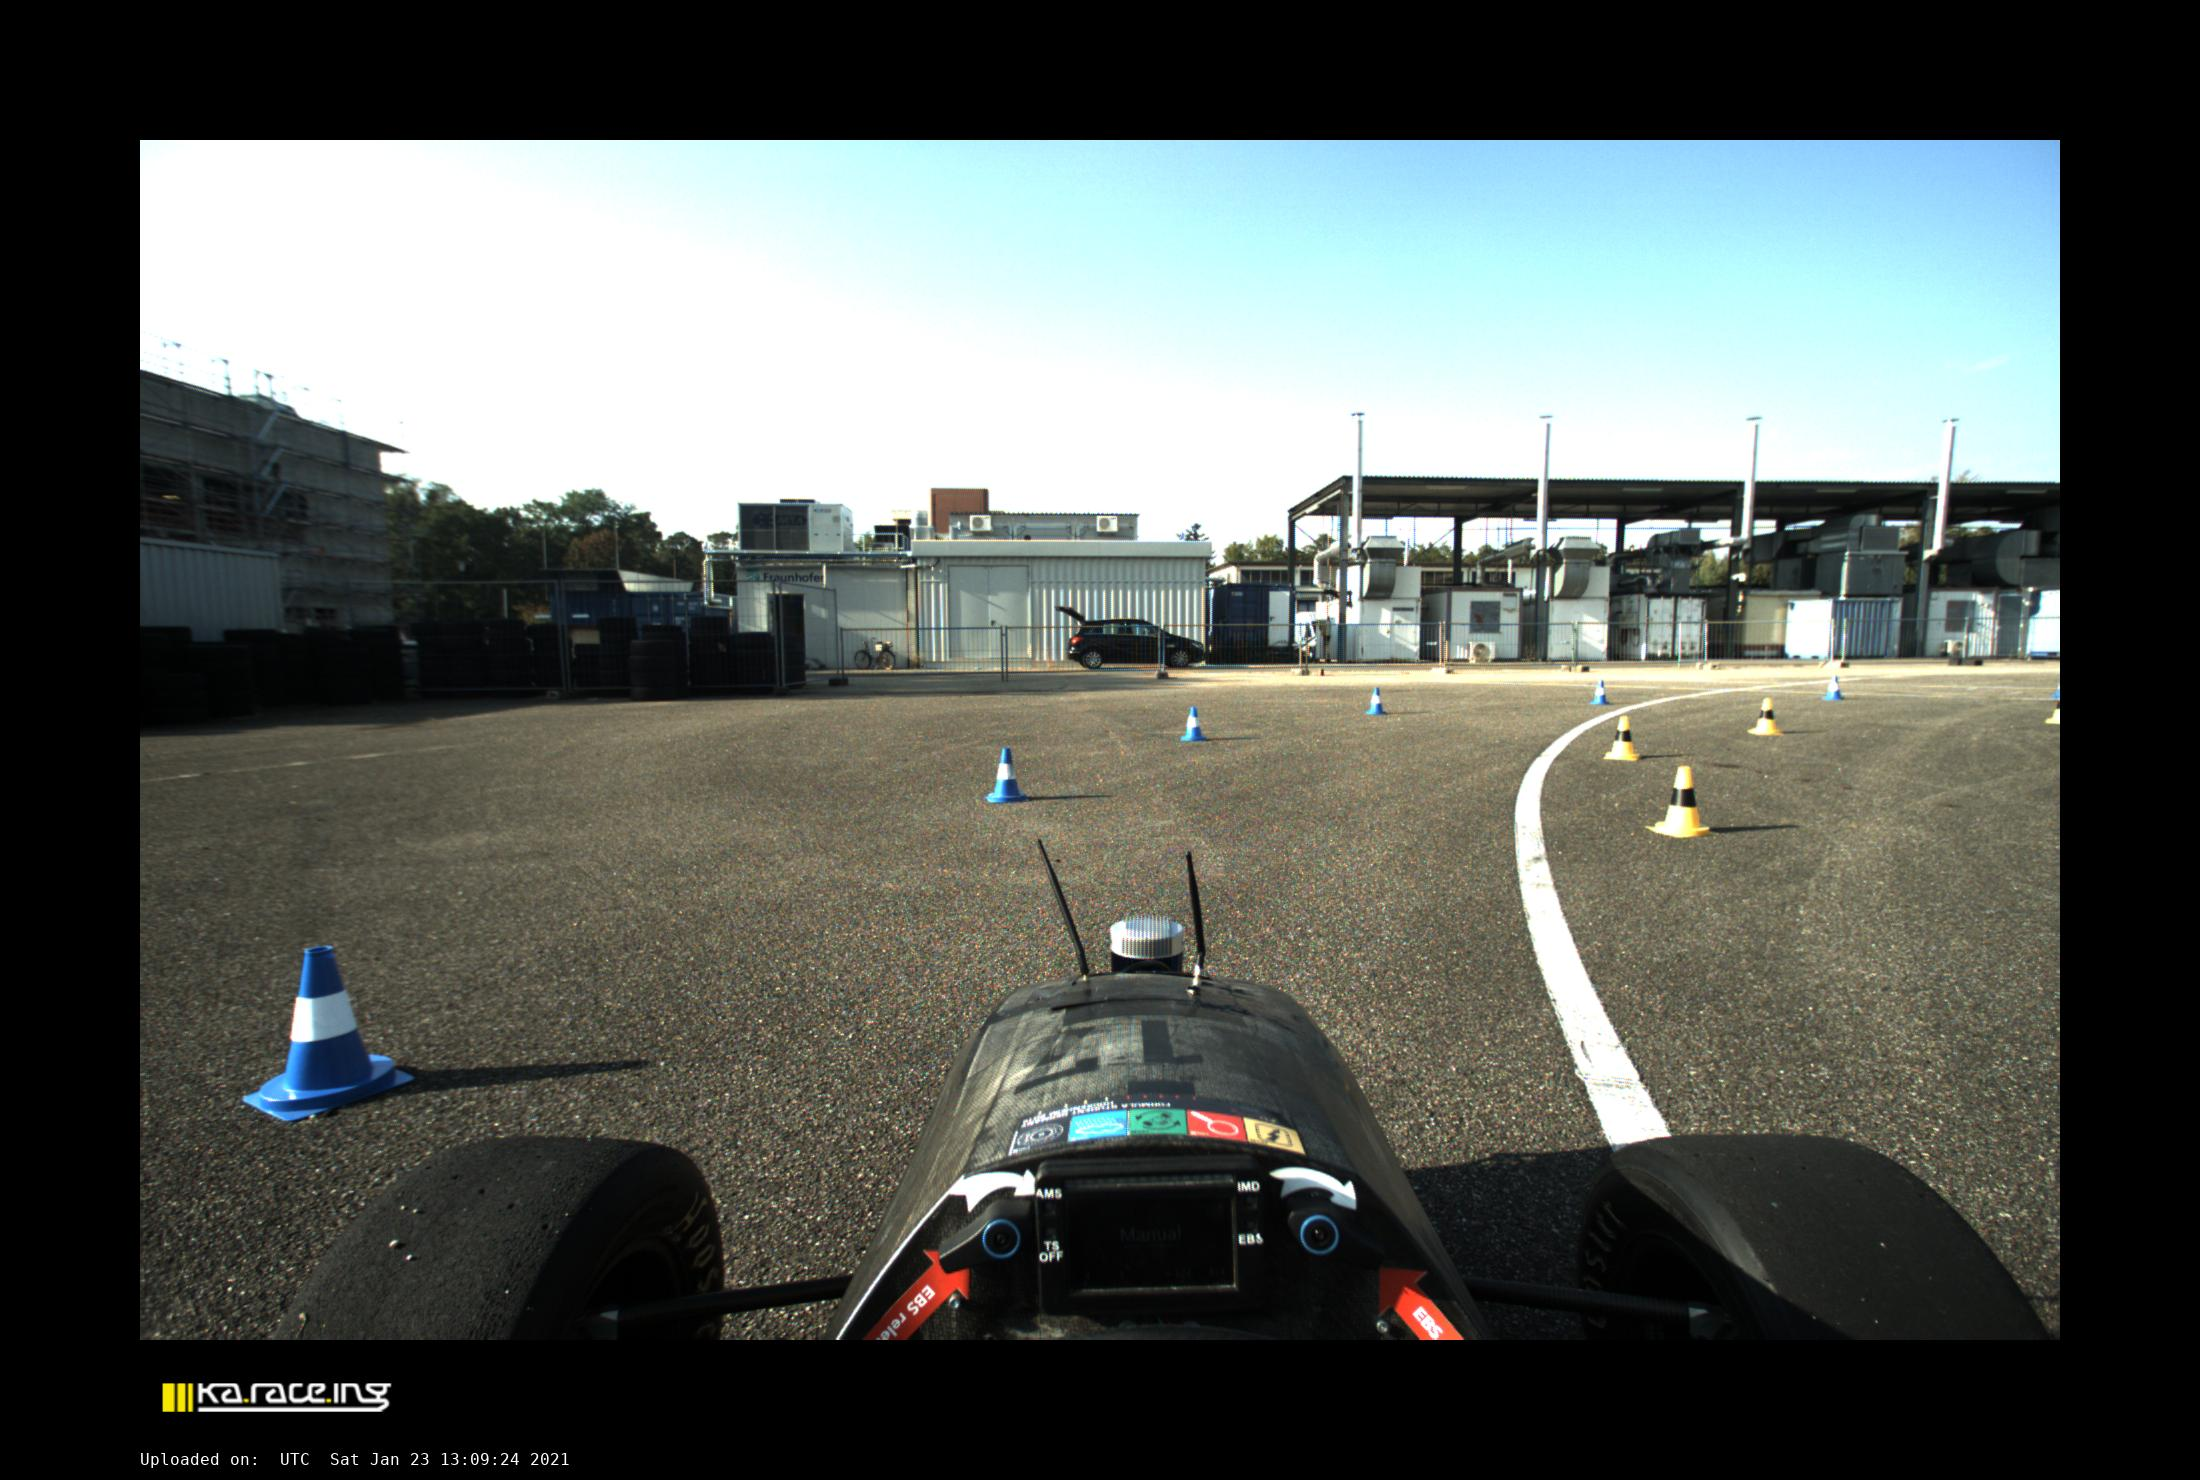blue_cone: (243, 945, 415, 1122), (986, 748, 1026, 803), (1179, 707, 1207, 742), (1366, 687, 1387, 715), (1823, 676, 1845, 700), (1591, 679, 1610, 705)
yellow_cone: (1645, 765, 1709, 837), (1604, 715, 1638, 760), (1747, 699, 1780, 735)
